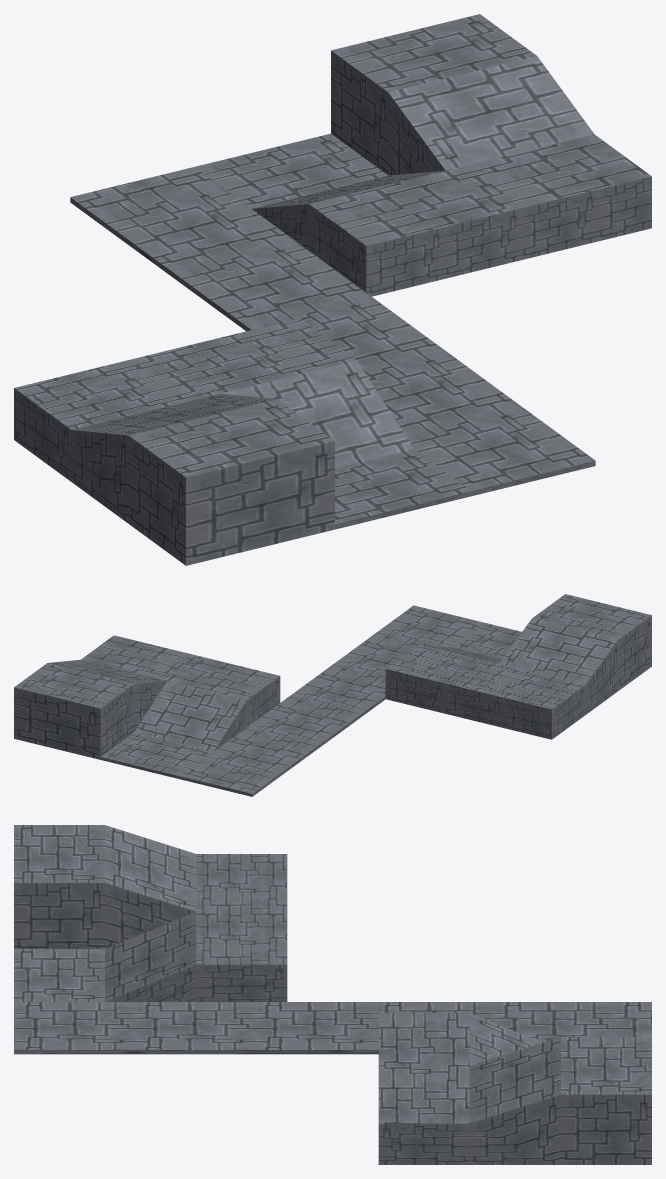
The model's file is stage.FBX.
3 renders of one model, top to bottom at view 1: azimuth 30°, elevation 25°; view 2: azimuth 150°, elevation 25°; view 3: azimuth 270°, elevation 25°, orthographic. The views are drawn at different scales.
Visible parts, largest first — view 1: Center, Box2_02, Box1_00, Box1_02, Box2_03, Box2_04, Box1_03, Box2_00, Box1_01, Box1_04, Box2_01; view 2: Center, Box1_02, Box2_04, Box2_02, Box1_01, Box2_01, Box1_00, Box2_00, Box2_03, Box1_04, Box1_03; view 3: Center, Box2_02, Box1_02, Box2_04, Box1_00, Box2_03, Box1_01, Box1_03, Box1_04, Box2_01.
Boxes of the visible parts, left/top/right/bottom form: Center: left=70, top=167, right=595, bottom=495; Box2_02: left=309, top=134, right=651, bottom=296; Box1_00: left=128, top=399, right=334, bottom=565; Box1_02: left=14, top=318, right=356, bottom=481; Box2_03: left=388, top=56, right=594, bottom=175; Box2_04: left=331, top=14, right=536, bottom=174; Box1_03: left=221, top=360, right=413, bottom=468; Box2_00: left=195, top=133, right=387, bottom=208; Box1_01: left=71, top=393, right=276, bottom=523; Box1_04: left=335, top=449, right=471, bottom=529; Box2_01: left=252, top=171, right=443, bottom=250; Center: left=180, top=605, right=485, bottom=796; Box1_02: left=385, top=644, right=585, bottom=739; Box2_04: left=14, top=663, right=133, bottom=759; Box2_02: left=81, top=635, right=280, bottom=726; Box1_01: left=499, top=618, right=618, bottom=714; Box2_01: left=134, top=681, right=246, bottom=751; Box1_00: left=532, top=594, right=651, bottom=690; Box2_00: left=100, top=732, right=212, bottom=779; Box2_03: left=48, top=659, right=166, bottom=731; Box1_04: left=453, top=623, right=521, bottom=659; Box1_03: left=420, top=644, right=501, bottom=663; Center: left=14, top=1002, right=651, bottom=1054; Box2_02: left=378, top=1013, right=469, bottom=1164; Box1_02: left=196, top=854, right=287, bottom=1001; Box2_04: left=561, top=1037, right=651, bottom=1164; Box1_00: left=14, top=825, right=104, bottom=948; Box2_03: left=469, top=1037, right=560, bottom=1164; Box1_01: left=105, top=825, right=196, bottom=948; Box1_03: left=105, top=912, right=196, bottom=1001; Box1_04: left=14, top=949, right=104, bottom=1001; Box2_01: left=469, top=1013, right=542, bottom=1065.
Size of the model in its own units: 140 by 17 by 140.
Materials: 1 (1 with a texture image).
